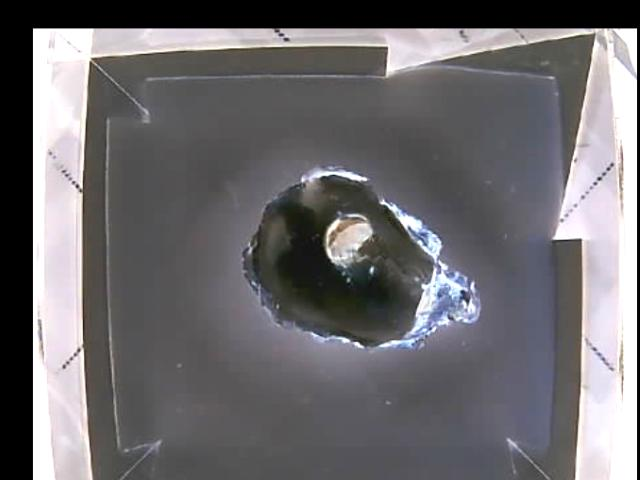Shell: (240, 165, 479, 346)
